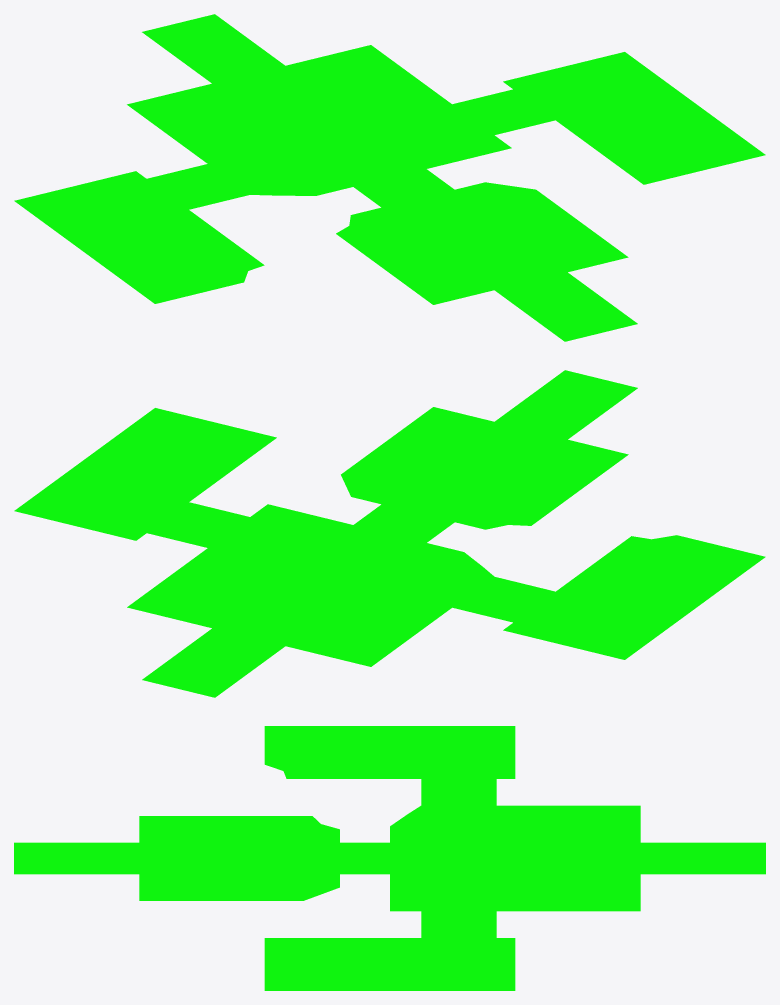
File: s04b_ic1-floor.glb
3 views of the same model, one above another, from view 1: azimuth 30°, elevation 25°; view 2: azimuth 150°, elevation 25°; view 3: azimuth 270°, elevation 25° (orthographic). The views are drawn at different scales.
Visible parts, largest first — view 1: collision_floor-colonly; view 2: collision_floor-colonly; view 3: collision_floor-colonly.
Boxes of the visible parts, x1,y1,x2,y2 form: collision_floor-colonly: (14, 14, 765, 341); collision_floor-colonly: (14, 370, 765, 697); collision_floor-colonly: (14, 726, 765, 990).
Bounding box in the file's own units: 49.99 × 0 × 60.
